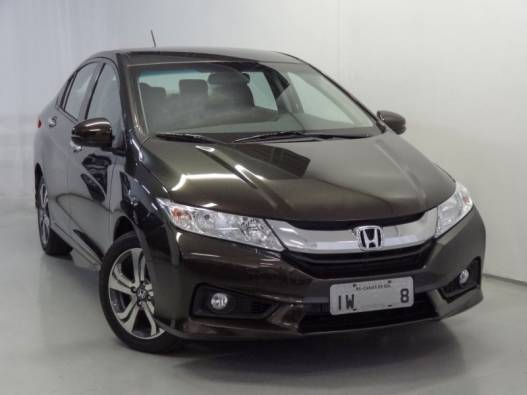Carro: (31, 37, 489, 362)
